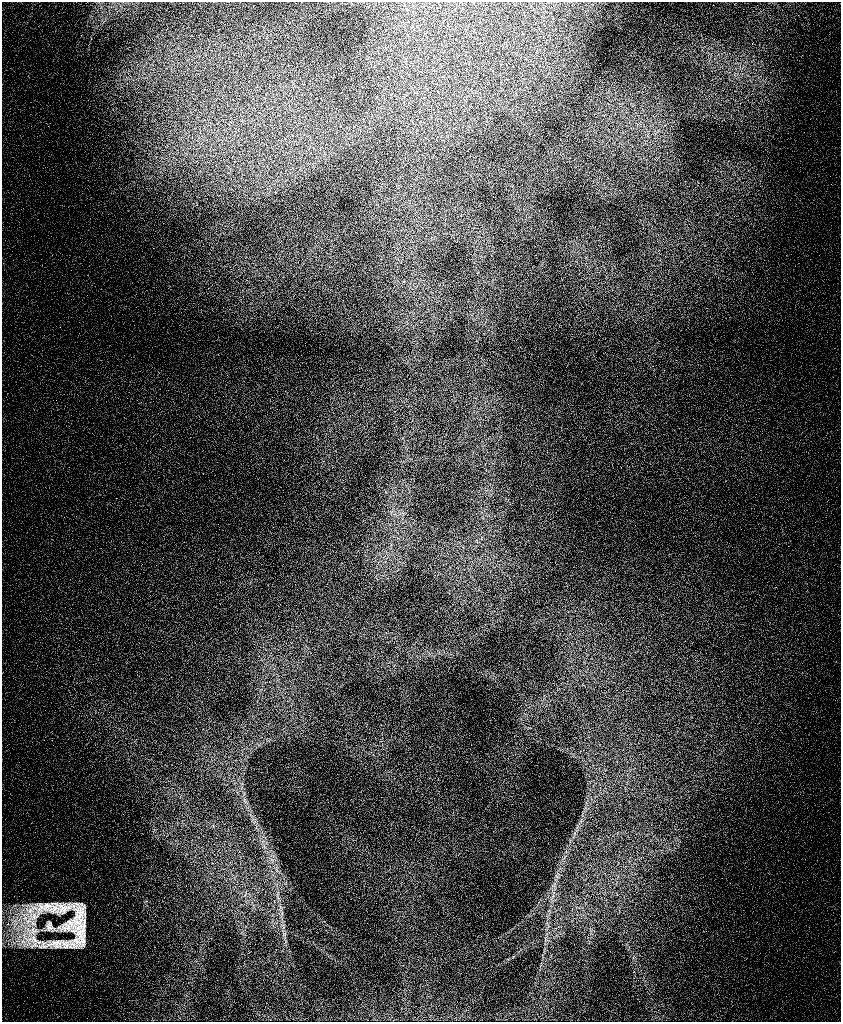lumbar scoliosis: (330, 205, 520, 601)
